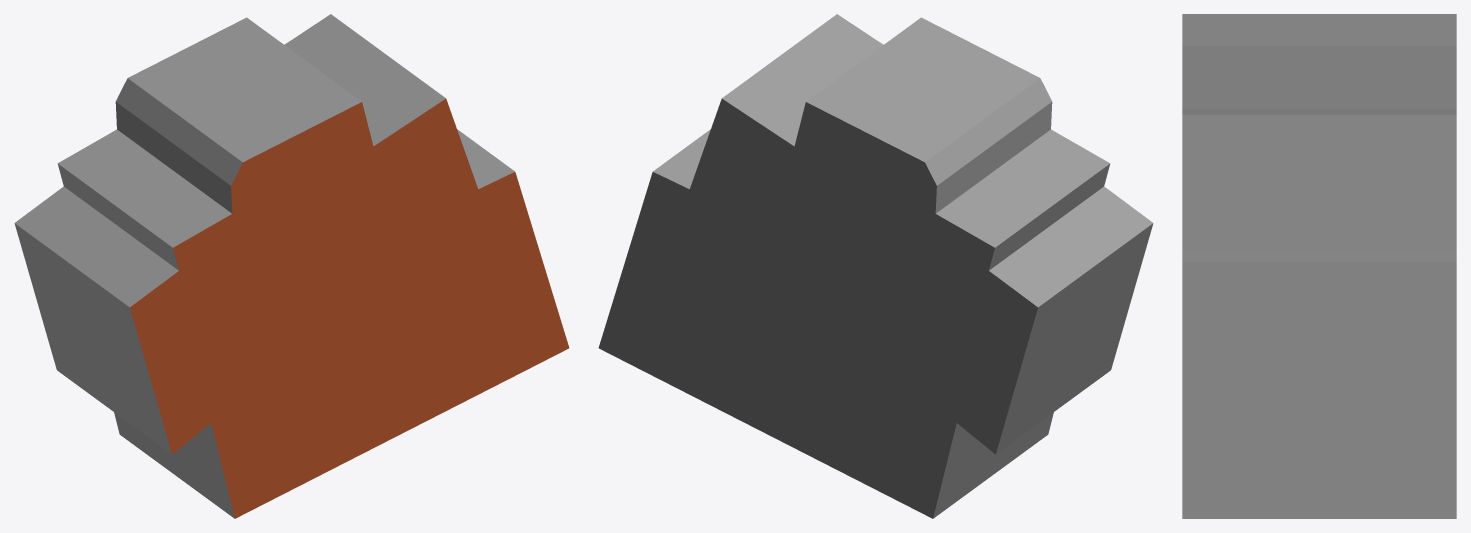
Rendered from construction_1501_assumed_A_Casa_h6m.obj.
The picture shows the model from 3 angles, left to right: view 1: azimuth 30°, elevation 25°; view 2: azimuth 150°, elevation 25°; view 3: azimuth 270°, elevation 25°; orthographic projection. The views are drawn at different scales.
Visible parts, largest first — view 1: construction_1501_assumed_A_Casa; view 2: construction_1501_assumed_A_Casa; view 3: construction_1501_assumed_A_Casa.
Part boxes in pixels (x1,y1,x2,y2): construction_1501_assumed_A_Casa: [14, 14, 569, 518]; construction_1501_assumed_A_Casa: [598, 14, 1153, 518]; construction_1501_assumed_A_Casa: [1182, 14, 1456, 518].
Bounding box in the file's own units: 13.2 × 11.08 × 6.
